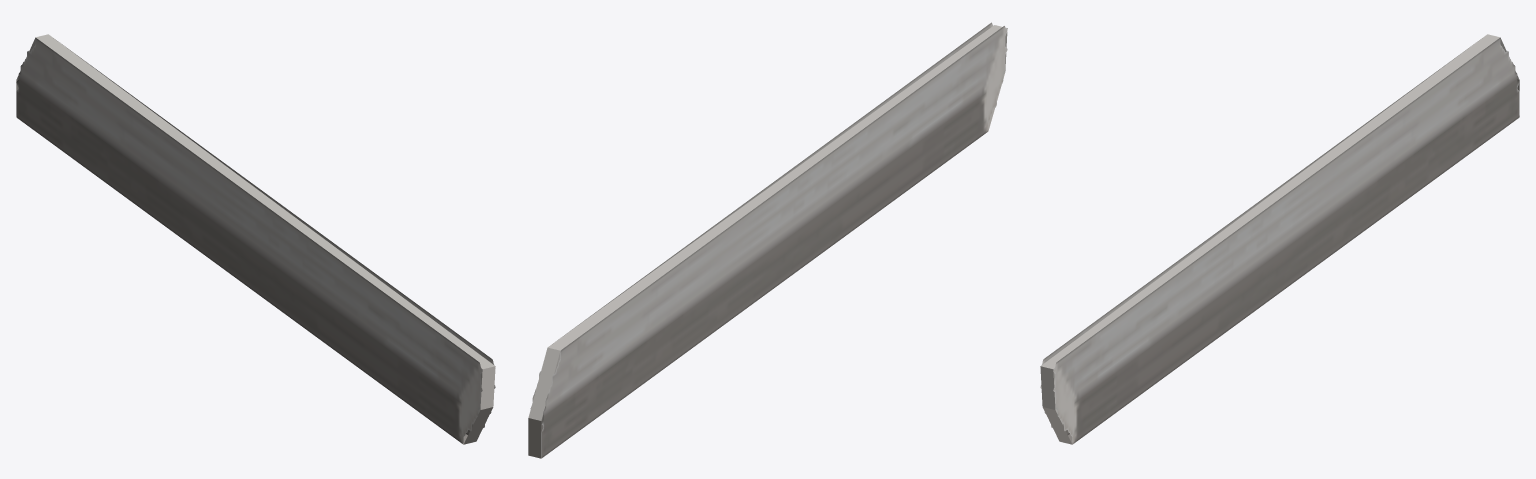
The model's file is pz_native_fixtures_railings_01_78_frame.obj.
3 renders of one model, left to right at view 1: azimuth 30°, elevation 25°; view 2: azimuth 150°, elevation 25°; view 3: azimuth 330°, elevation 25°, orthographic.
Parts seen in each view (by area): view 1: pz_native_fixtures_railings_01_78_frame; view 2: pz_native_fixtures_railings_01_78_frame; view 3: pz_native_fixtures_railings_01_78_frame.
Boxes of the visible parts, left/top/right/bottom form: pz_native_fixtures_railings_01_78_frame: left=16, top=34, right=495, bottom=444; pz_native_fixtures_railings_01_78_frame: left=528, top=22, right=1007, bottom=458; pz_native_fixtures_railings_01_78_frame: left=1040, top=34, right=1519, bottom=444.
Bounding box in the file's own units: 0.045 × 0.3438 × 2.83.
Materials: 1 (1 with a texture image).
